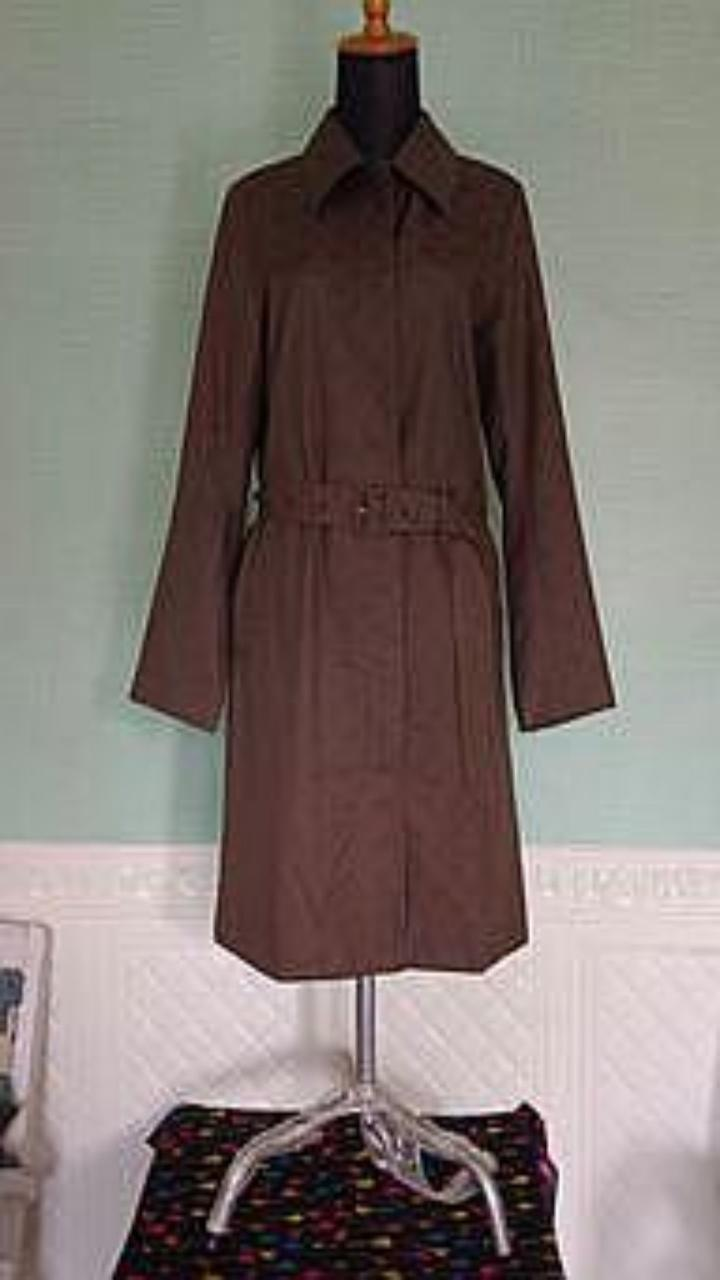Coat: (130, 105, 614, 978)
